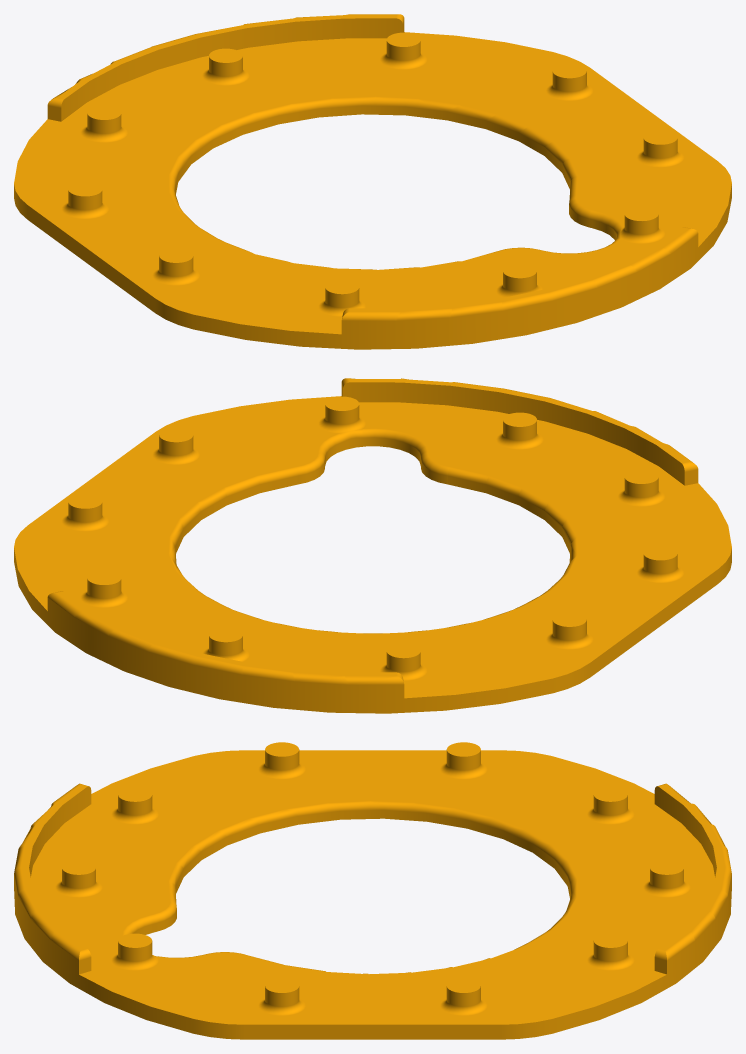
The model's file is StomaStrap105FlatSideRing001.glb.
The picture shows the model from 3 angles, top to bottom: view 1: azimuth 30°, elevation 25°; view 2: azimuth 150°, elevation 25°; view 3: azimuth 270°, elevation 25°; orthographic projection.
Visible parts, largest first — view 1: Fillet027; view 2: Fillet027; view 3: Fillet027.
Boxes of the visible parts, box(x1,y1,x2,y2) form: Fillet027: box(14, 14, 731, 349); Fillet027: box(14, 378, 731, 713); Fillet027: box(14, 742, 731, 1039).
Bounding box in the file's own units: 0.095 × 0.0056 × 0.105.
